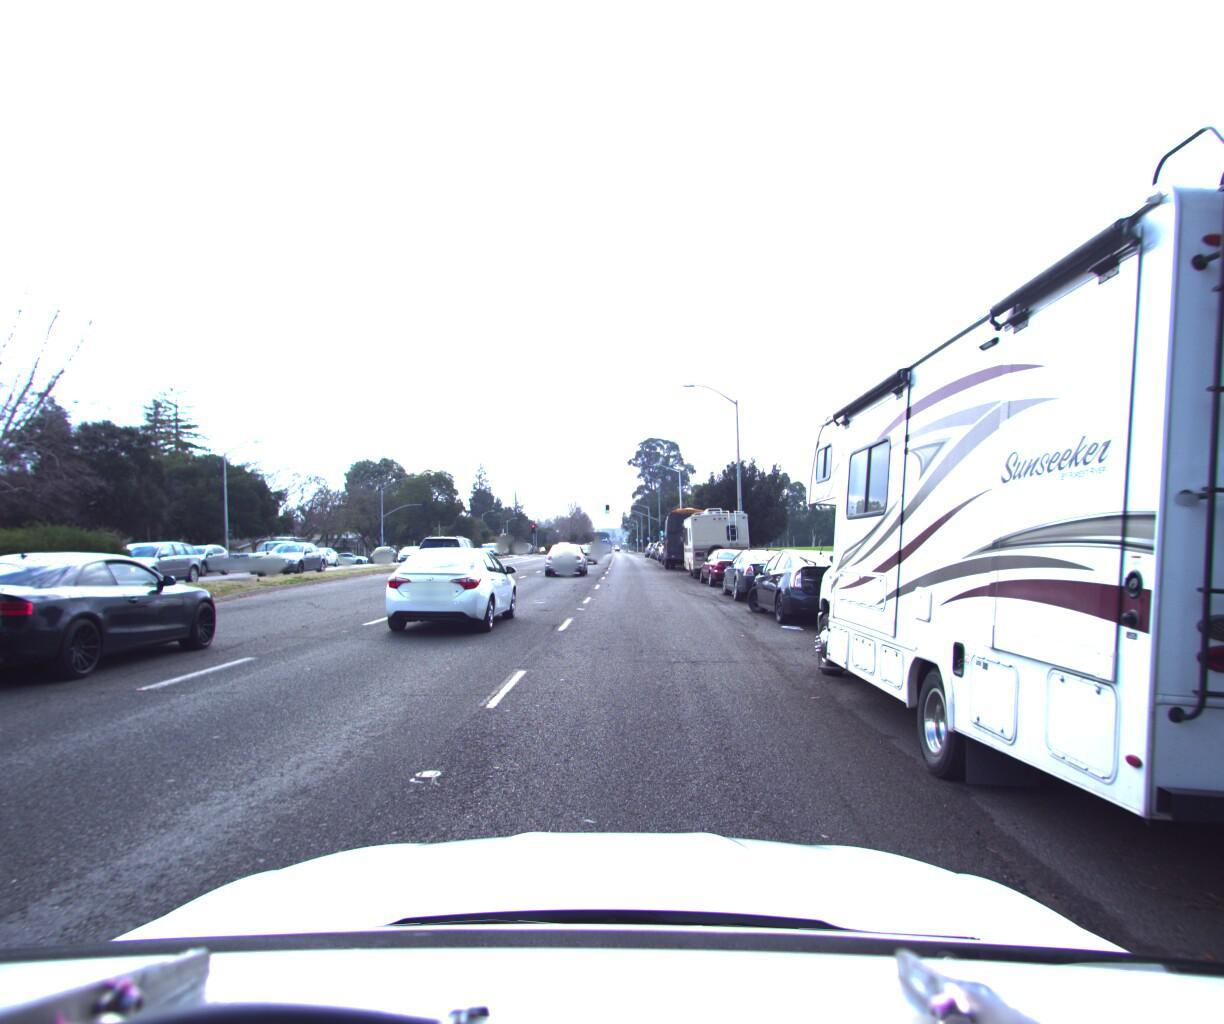bus: (660, 500, 714, 563)
car: (0, 546, 246, 698), (365, 539, 521, 639), (739, 539, 879, 625), (716, 539, 809, 598), (76, 541, 202, 584), (409, 530, 487, 580), (695, 539, 761, 582), (247, 544, 327, 578), (159, 539, 236, 574), (241, 534, 313, 568), (539, 538, 590, 574), (295, 542, 340, 565), (572, 539, 599, 560), (367, 543, 397, 560)
other_vehicle: (773, 95, 1224, 1012), (679, 503, 755, 573)
